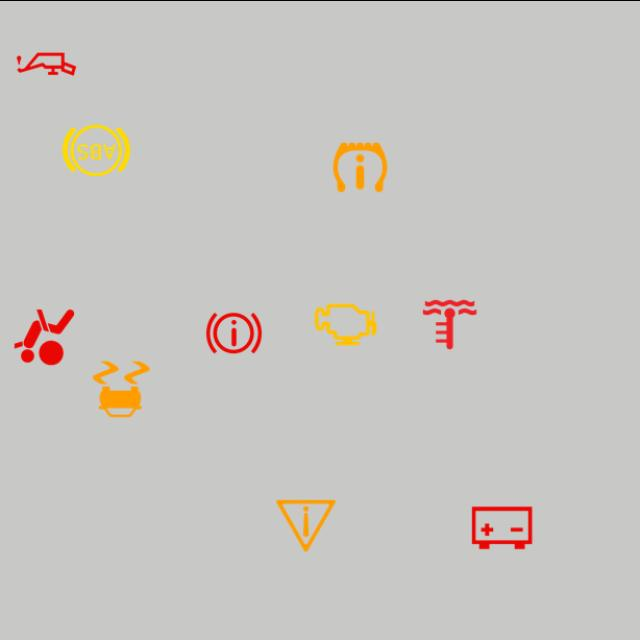Anti Lock Braking System: (60, 112, 134, 186)
Braking System Issue: (197, 295, 271, 369)
Charging System Issue: (465, 490, 539, 564)
Check Engine: (308, 286, 382, 361)
Electronic Stability Problem -ESP-: (84, 352, 158, 426)
Engine Overheating Warning Light: (413, 286, 487, 361)
Low Engine Oil Warning Light: (10, 26, 84, 100)
Low Tire Pressure Warning Light: (323, 130, 397, 203)
Master warning light: (269, 488, 343, 562)
SRS-Airbag: (8, 299, 82, 373)
